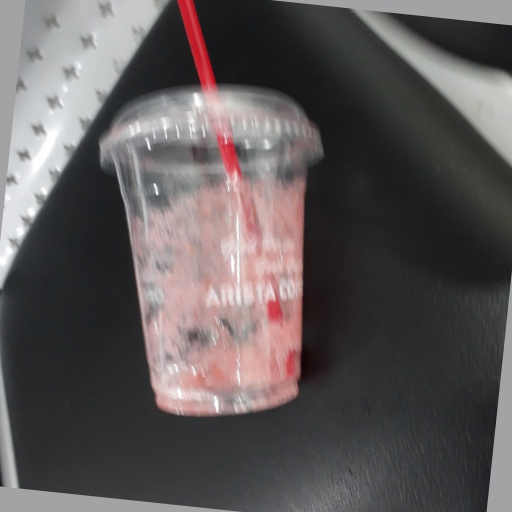Plastic_2: (97, 3, 322, 417)
